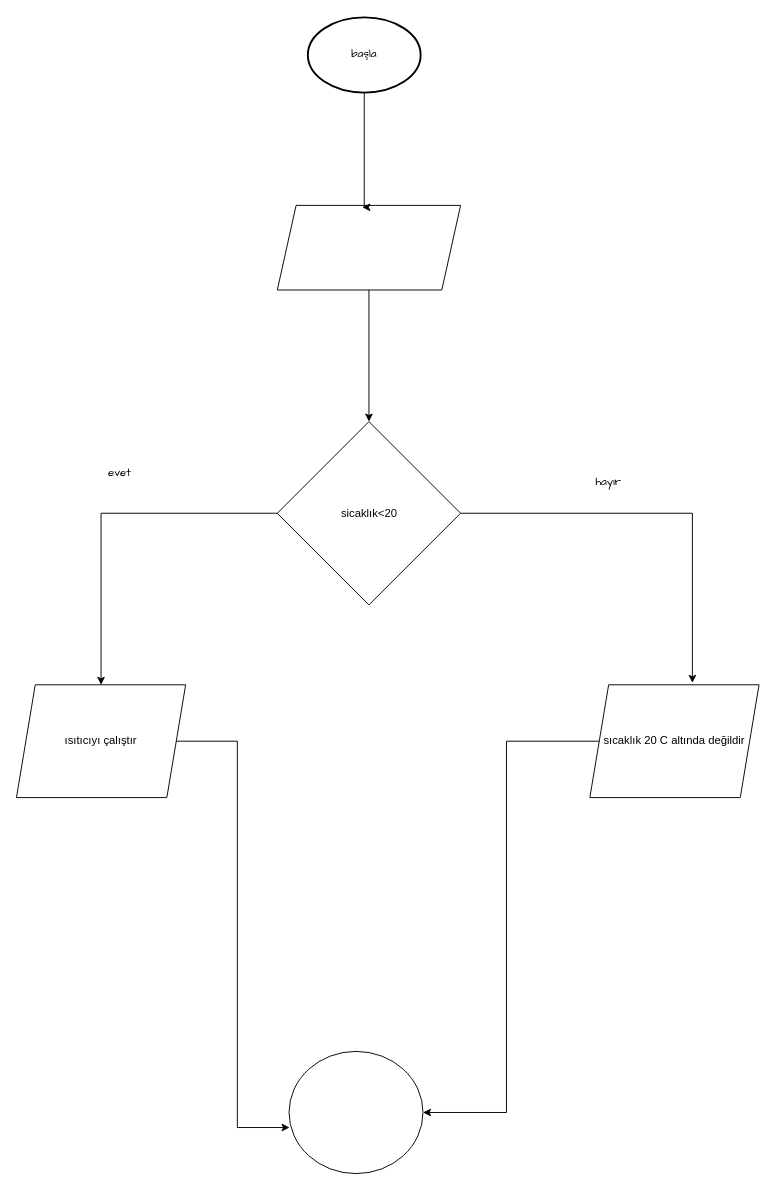
Image size: 776x1190. Some labels were removed from this diagram. Each missing label, with the centre of its shape:
DUR: point 355,1112
sıcaklık değerini oku(sicaklık): point 368,247
